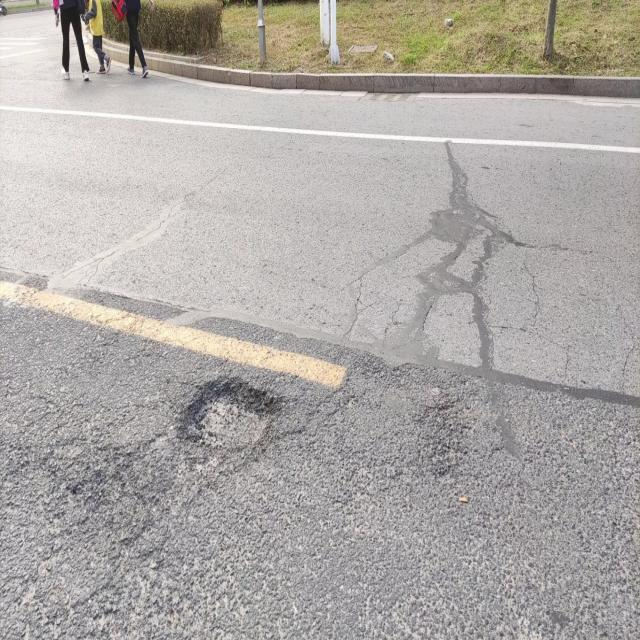Buraco: (174, 374, 288, 480)
